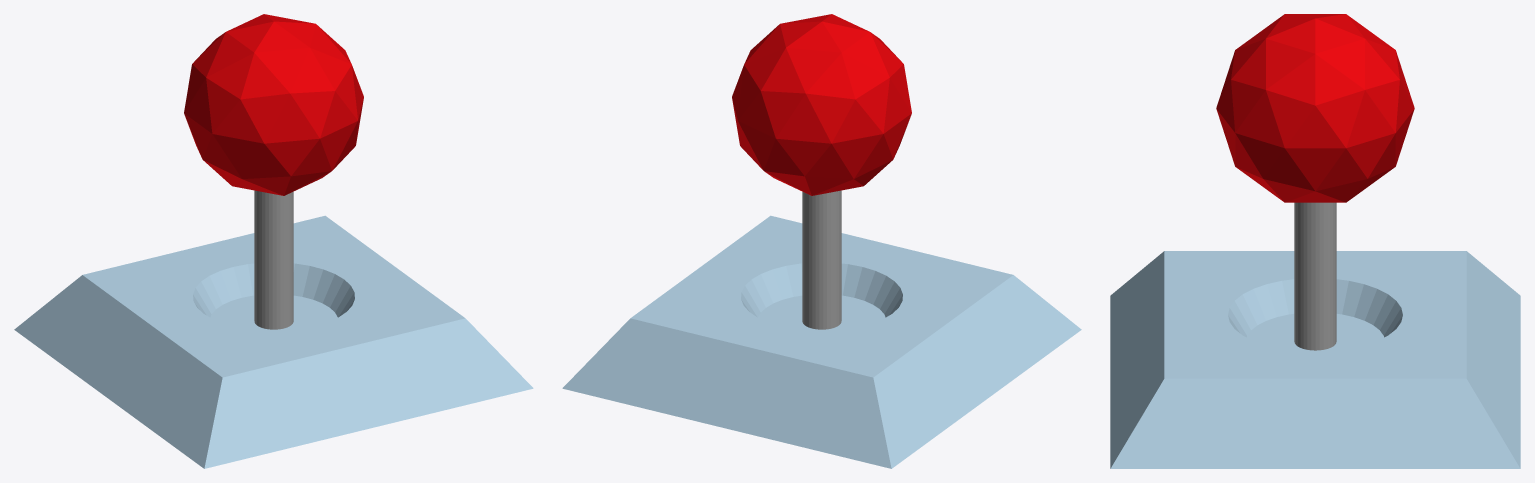
Rendered from lever.fbx.
The picture shows the model from 3 angles, left to right: view 1: azimuth 30°, elevation 25°; view 2: azimuth 150°, elevation 25°; view 3: azimuth 270°, elevation 25°; orthographic projection. The views are drawn at different scales.
Parts seen in each view (by area): view 1: Stage, lever; view 2: Stage, lever; view 3: Stage, lever.
Part boxes in pixels (box(x1,y1,x2,y2)): Stage: box(14, 215, 533, 468); lever: box(184, 14, 363, 329); Stage: box(562, 215, 1081, 468); lever: box(732, 14, 911, 329); Stage: box(1110, 251, 1520, 468); lever: box(1216, 14, 1414, 350).
Bounding box in the file's own units: 271 × 266 × 271.
